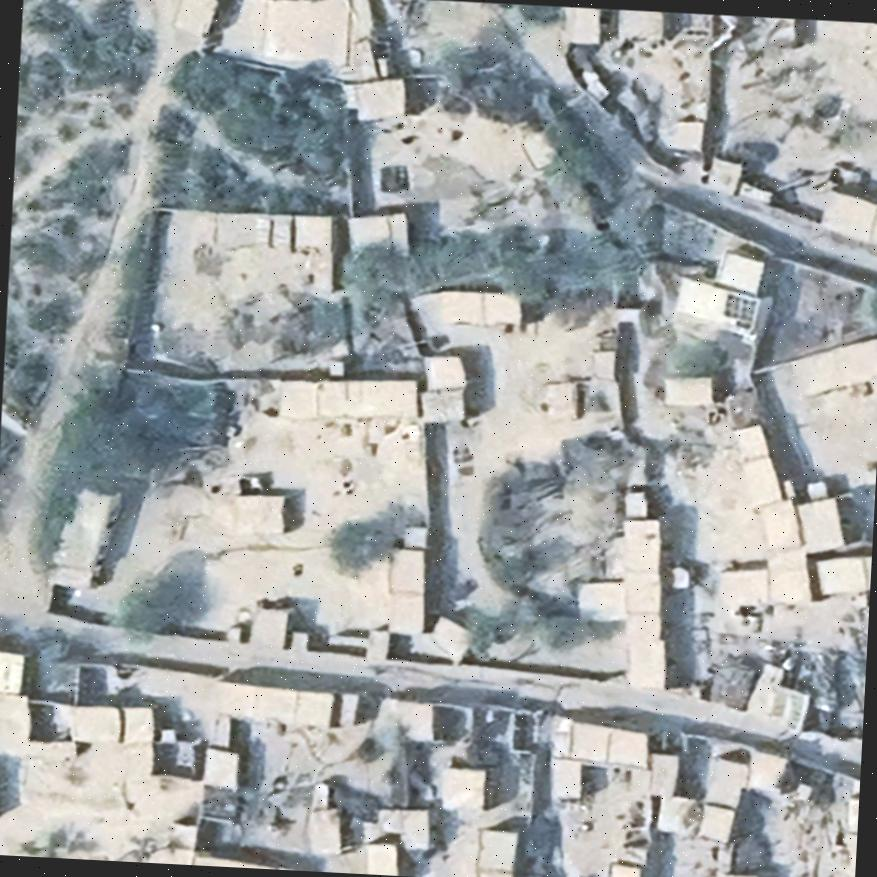Solarpanel: (768, 684, 809, 738), (718, 288, 763, 336)
